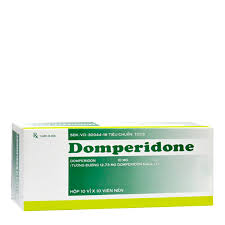Domperidone: (65, 140, 198, 157)
